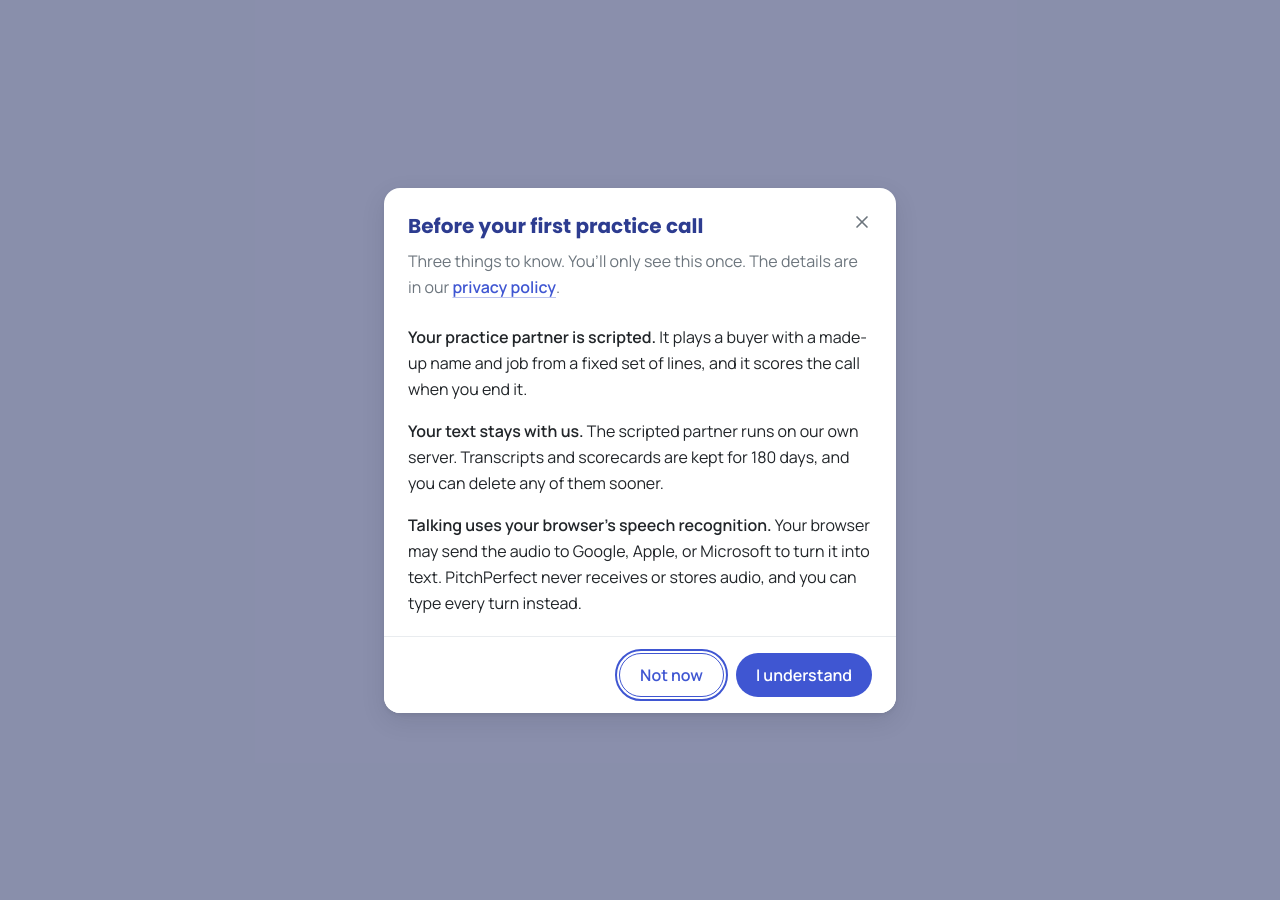
Test: ConsentDialog › asks for the new notice when the partner changed while this one was open
What coordinates should you click on to do the following:
click the button "I understand"
I would click on:
 (804, 674)
Its box is 736,652 -> 872,696.
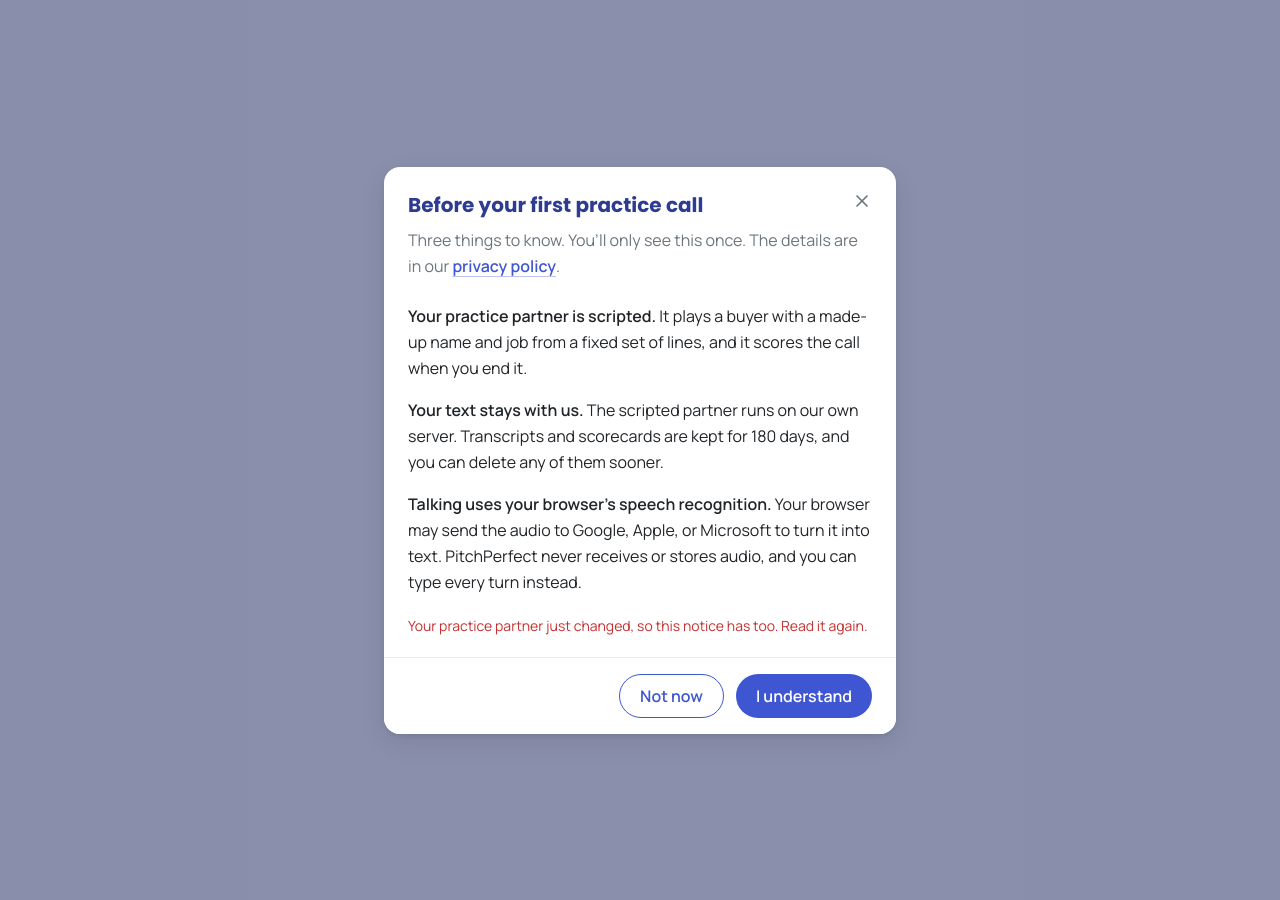
expect the message reads "Your practice partner just changed, so this notice has too. Read it again.": met, box 408,616 -> 867,634
